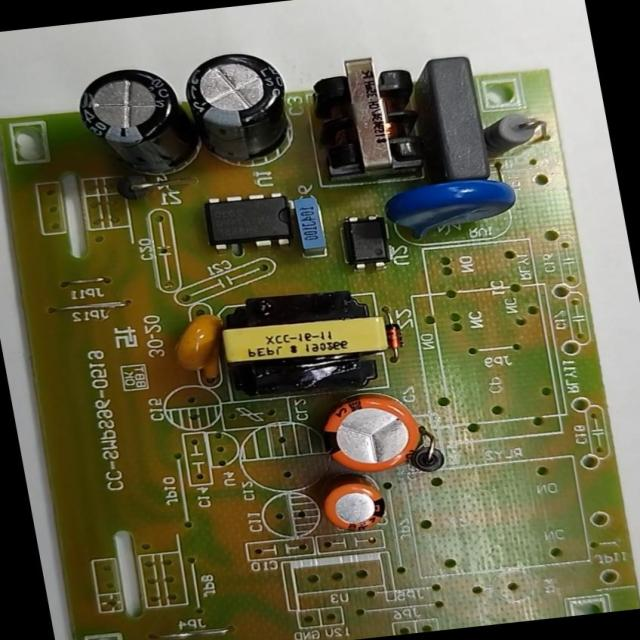Cap1: (306, 380, 433, 486)
Cap2: (310, 465, 399, 543)
Cap3: (169, 40, 312, 185)
Cap4: (63, 56, 220, 195)
MOSFET: (195, 184, 312, 259)
Mov: (370, 168, 534, 250)
Resistor: (468, 105, 564, 168)
Transformer: (192, 278, 402, 409), (302, 47, 444, 190)
